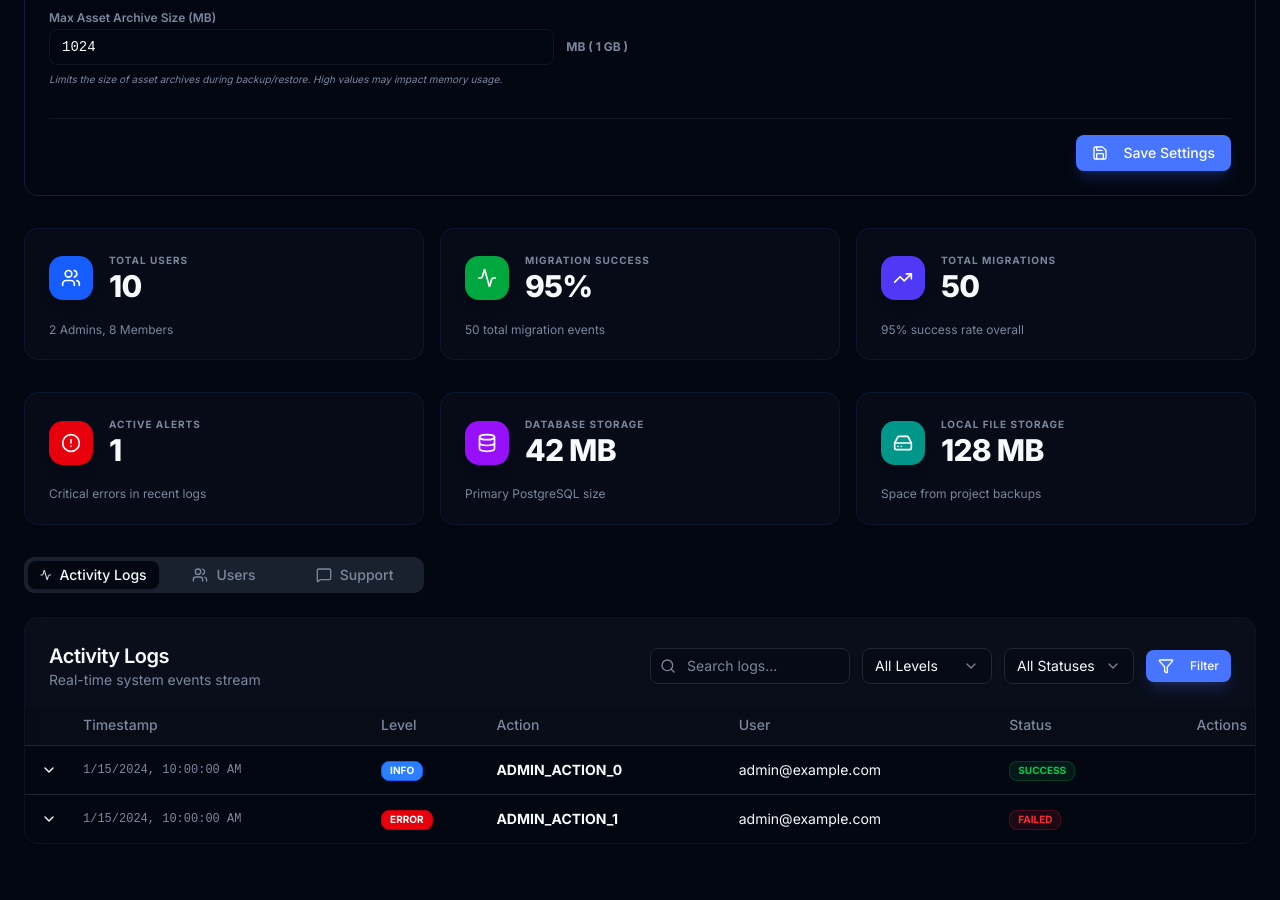
Scenario: AdminLogsPage — dashboard › expands log row to show message on click
(page scrolled)
Click the text "ADMIN_ACTION_0": click(640, 770) [25,746,1255,794]
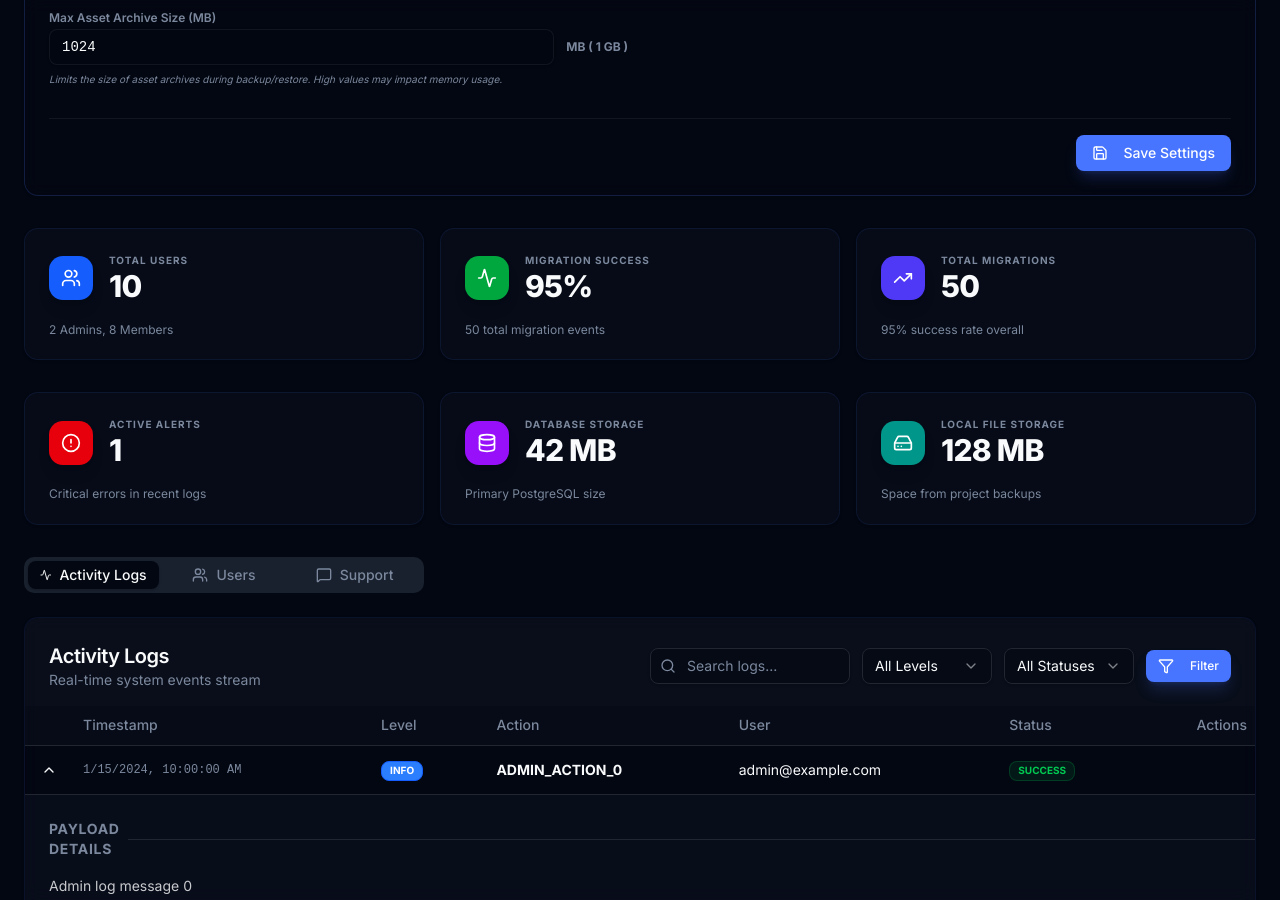
Check: the text "Admin log message 0" is shown, box [49,877,192,894]
